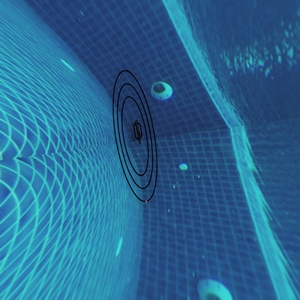submarine: (132, 124, 143, 140)
